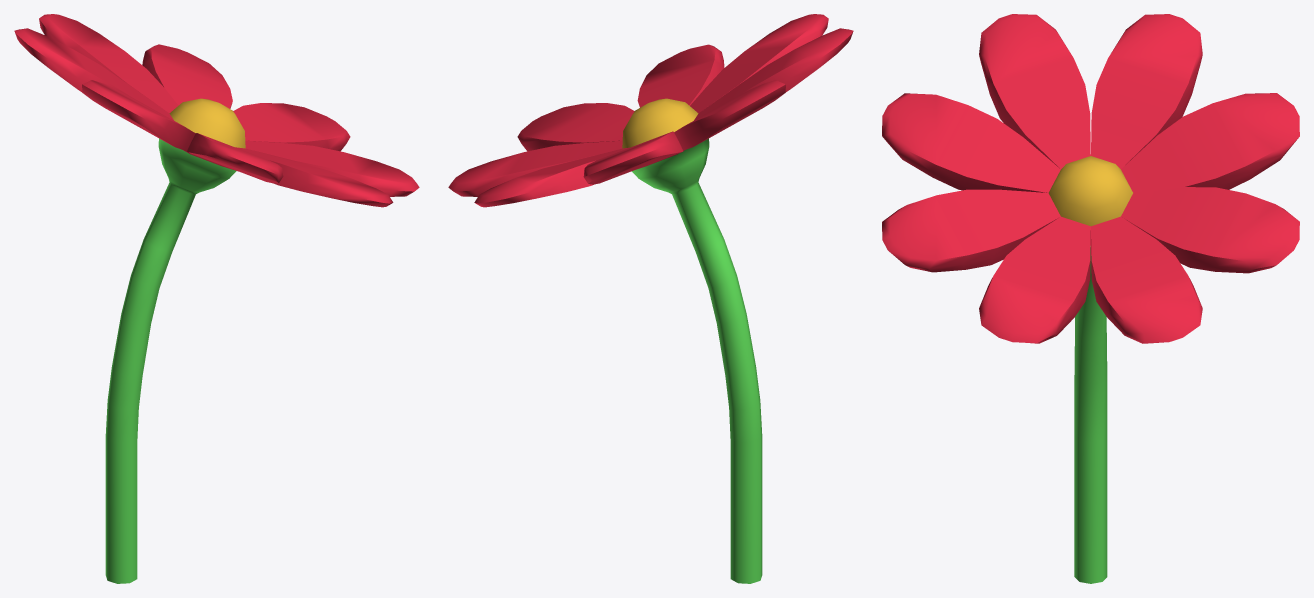
The model's file is Flower.fbx.
3 renders of one model, left to right at view 1: azimuth 30°, elevation 25°; view 2: azimuth 150°, elevation 25°; view 3: azimuth 270°, elevation 25°, orthographic.
Visible parts, largest first — view 1: Flower; view 2: Flower; view 3: Flower.
Boxes of the visible parts, <box> form: Flower: <box>14,14,419,583</box>; Flower: <box>448,14,853,583</box>; Flower: <box>882,14,1299,583</box>.
Size of the model in its own units: 22.75 by 35.72 by 25.45.
